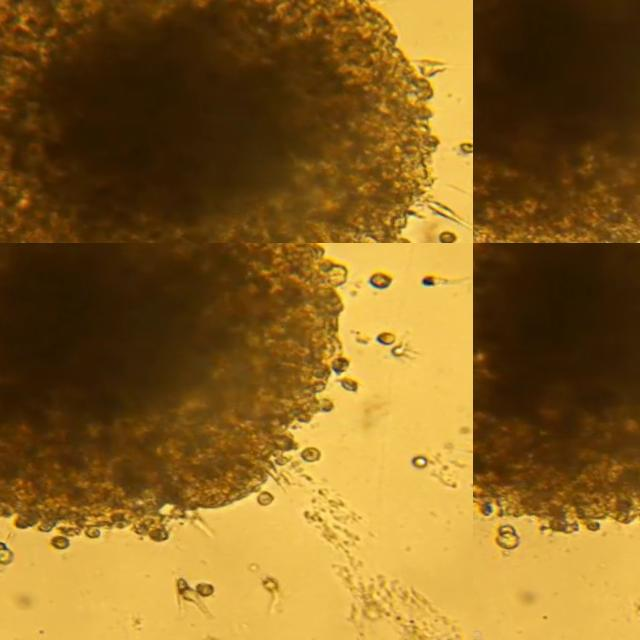cell: (172, 573, 204, 615), (427, 194, 462, 217), (492, 530, 515, 547), (295, 441, 316, 458), (369, 265, 389, 282), (258, 570, 276, 588), (253, 485, 270, 503), (435, 224, 454, 240), (192, 577, 211, 593), (0, 542, 13, 564), (48, 532, 67, 547), (407, 446, 425, 460), (418, 267, 439, 279), (455, 134, 473, 147), (493, 522, 512, 534), (339, 371, 355, 385), (389, 337, 404, 350), (376, 326, 392, 338)
tumor_mass: (473, 243, 640, 532), (473, 0, 640, 243)
